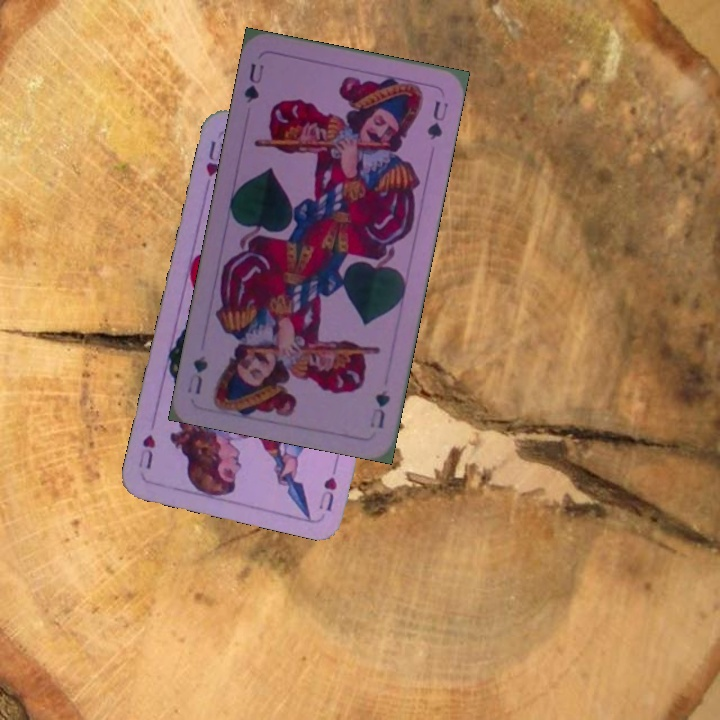GU: (240, 59, 267, 106), (365, 386, 393, 431)
HU: (314, 472, 340, 514), (202, 136, 226, 179)
